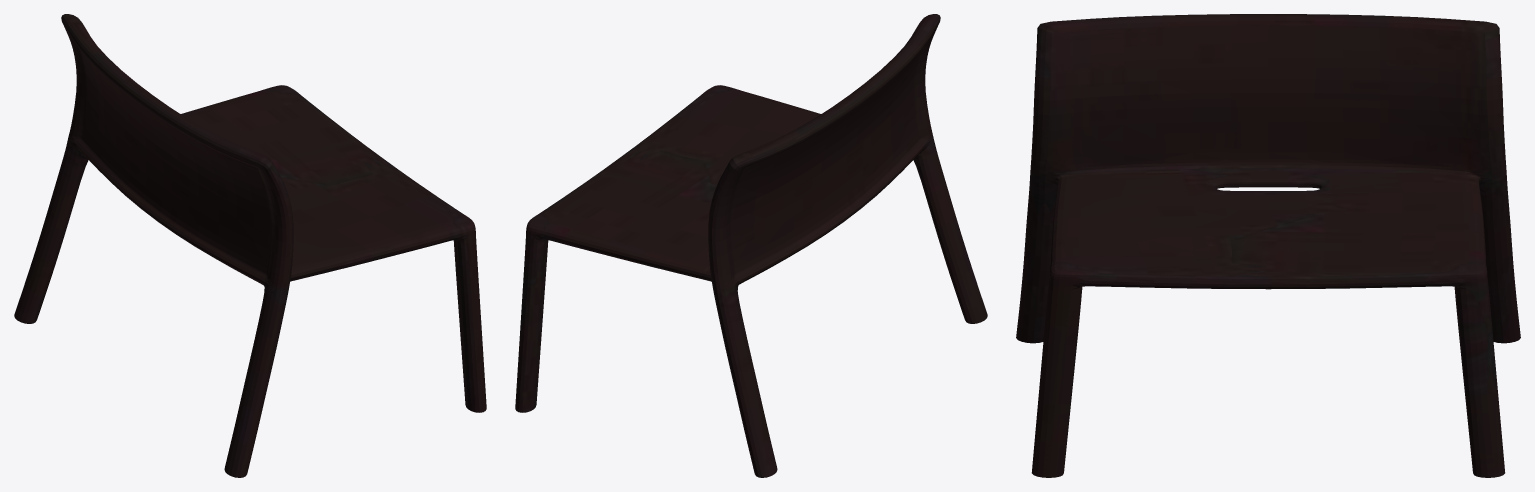
File: chair_4.glb
The picture shows the model from 3 angles, left to right: view 1: azimuth 30°, elevation 25°; view 2: azimuth 150°, elevation 25°; view 3: azimuth 270°, elevation 25°; orthographic projection. The views are drawn at different scales.
Parts seen in each view (by area): view 1: chair_4; view 2: chair_4; view 3: chair_4.
Boxes of the visible parts, x1,y1,x2,y2 form: chair_4: (14, 14, 486, 477); chair_4: (515, 14, 987, 477); chair_4: (1016, 14, 1520, 477).
Size of the model in its own units: 1.51 by 1.64 by 2.24.
1 material, 1 textured.
